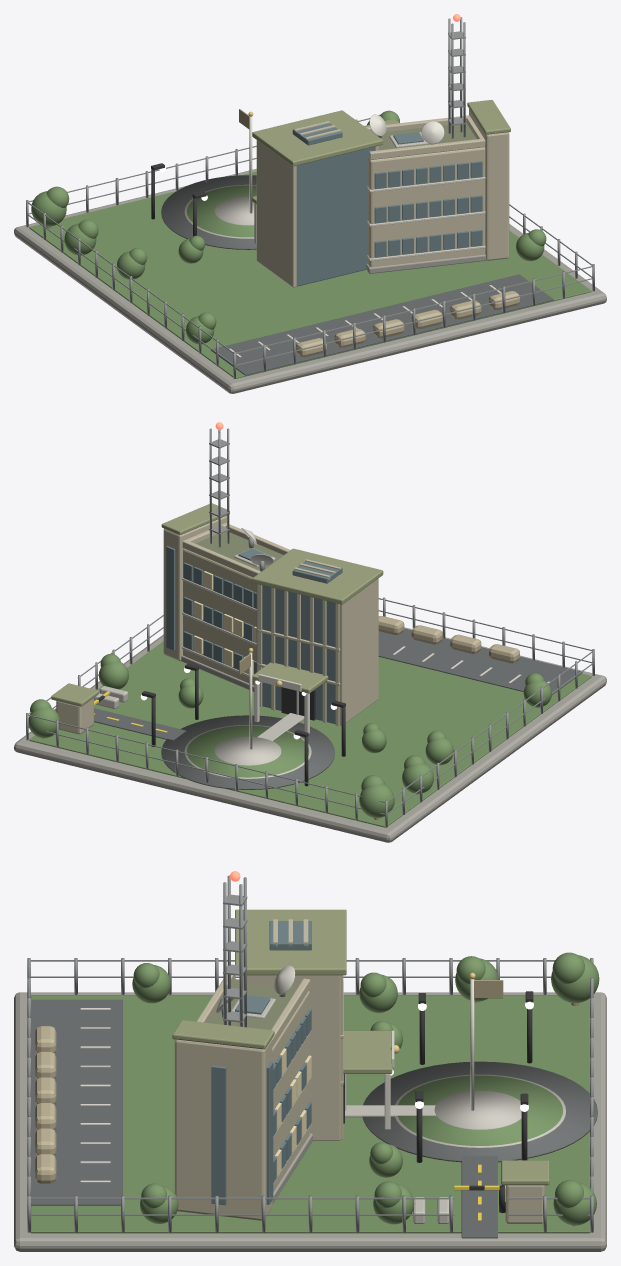
3 views of the same model, one above another, from view 1: azimuth 30°, elevation 25°; view 2: azimuth 150°, elevation 25°; view 3: azimuth 270°, elevation 25° (orthographic). The views are drawn at different scales.
Visible parts, largest first — view 1: Cube.001, Cube, Cube.097, Cube.028, Cube.002, Cube.107, Cube.109, Cube.085, Cylinder.001, Cylinder.003, Cube.082, Cube.086 (+10 smaller); view 2: Cube.001, Cube, Cube.097, Cube.002, Cube.107, Cylinder.001, Cube.028, Cube.109, Cylinder.003, Cube.085, Cylinder.004, Cube.013 (+18 smaller); view 3: Cube.001, Cube, Cube.002, Cube.085, Cylinder.001, Cylinder.003, Cube.109, Cube.108, Cube.013, Cylinder.004, Cube.028, Cube.088 (+39 smaller).
Part boxes in pixels (x1,y1,x2,y2): Cube.001: [29, 171, 591, 378]; Cube: [14, 169, 606, 393]; Cube.097: [296, 146, 375, 286]; Cube.028: [368, 147, 485, 267]; Cube.002: [211, 274, 553, 375]; Cube.107: [256, 140, 297, 287]; Cube.109: [252, 110, 383, 166]; Cube.085: [469, 109, 509, 260]; Cylinder.001: [161, 175, 256, 249]; Cylinder.003: [187, 185, 256, 237]; Cube.082: [369, 139, 481, 159]; Cube.086: [467, 100, 510, 134]; Cube.001: [29, 641, 591, 827]; Cube: [14, 627, 606, 842]; Cube.097: [262, 585, 335, 723]; Cube.002: [378, 628, 582, 694]; Cube.107: [339, 578, 378, 725]; Cylinder.001: [161, 715, 334, 789]; Cube.028: [183, 548, 256, 685]; Cube.109: [252, 548, 383, 604]; Cylinder.003: [187, 725, 309, 777]; Cube.085: [163, 515, 226, 660]; Cylinder.004: [214, 736, 281, 765]; Cube.013: [54, 708, 186, 740]; Cube.001: [30, 995, 590, 1233]; Cube: [14, 992, 606, 1251]; Cube.002: [31, 999, 122, 1205]; Cube.085: [174, 1039, 272, 1220]; Cylinder.001: [362, 1061, 597, 1162]; Cylinder.003: [398, 1075, 562, 1145]; Cube.109: [235, 909, 346, 975]; Cube.108: [242, 975, 340, 1140]; Cube.013: [461, 1156, 497, 1238]; Cylinder.004: [434, 1090, 521, 1129]; Cube.028: [272, 990, 309, 1191]; Cube.088: [211, 1065, 226, 1205].
Bounding box in the file's own units: 3.92 × 2.45 × 3.92.
